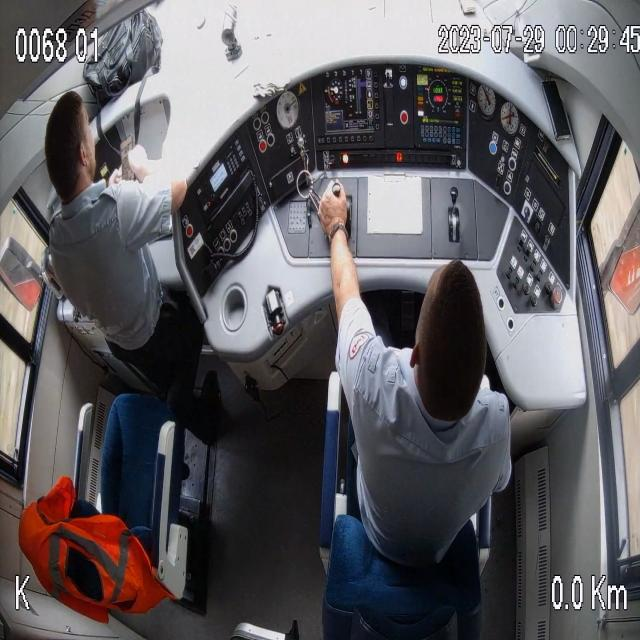smartphone: (118, 134, 140, 184)
